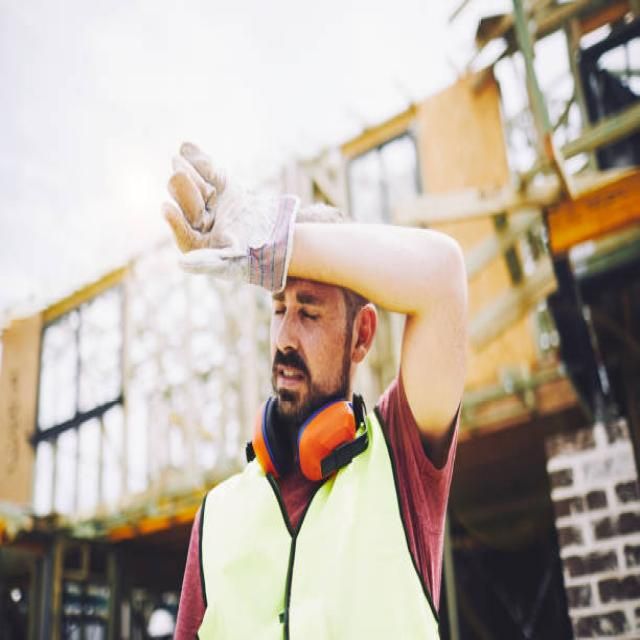gloves: (158, 138, 299, 292)
